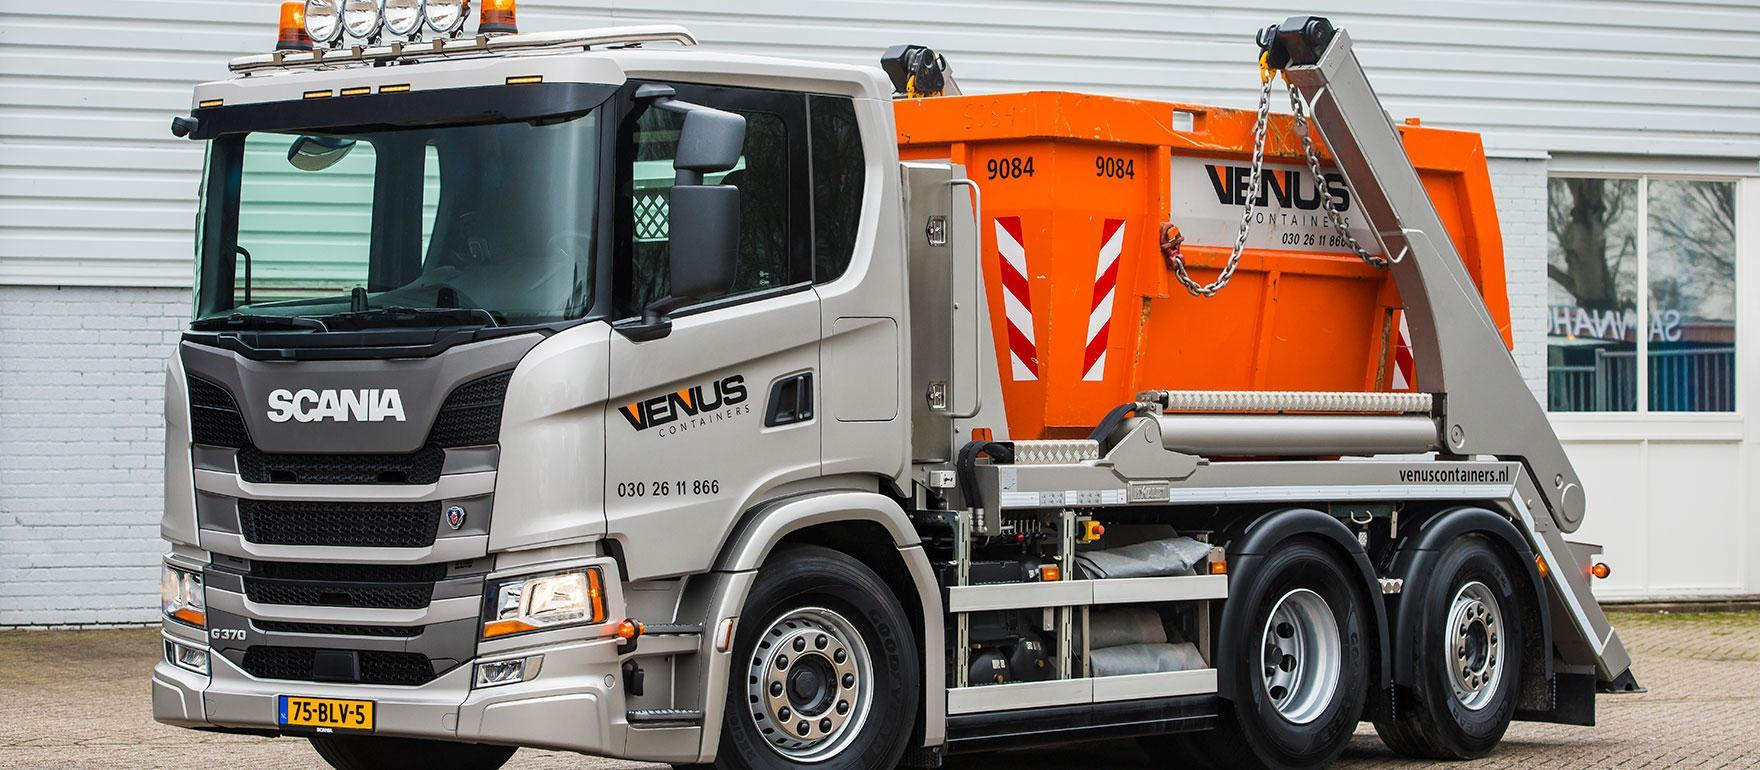truck: (100, 28, 1650, 770)
